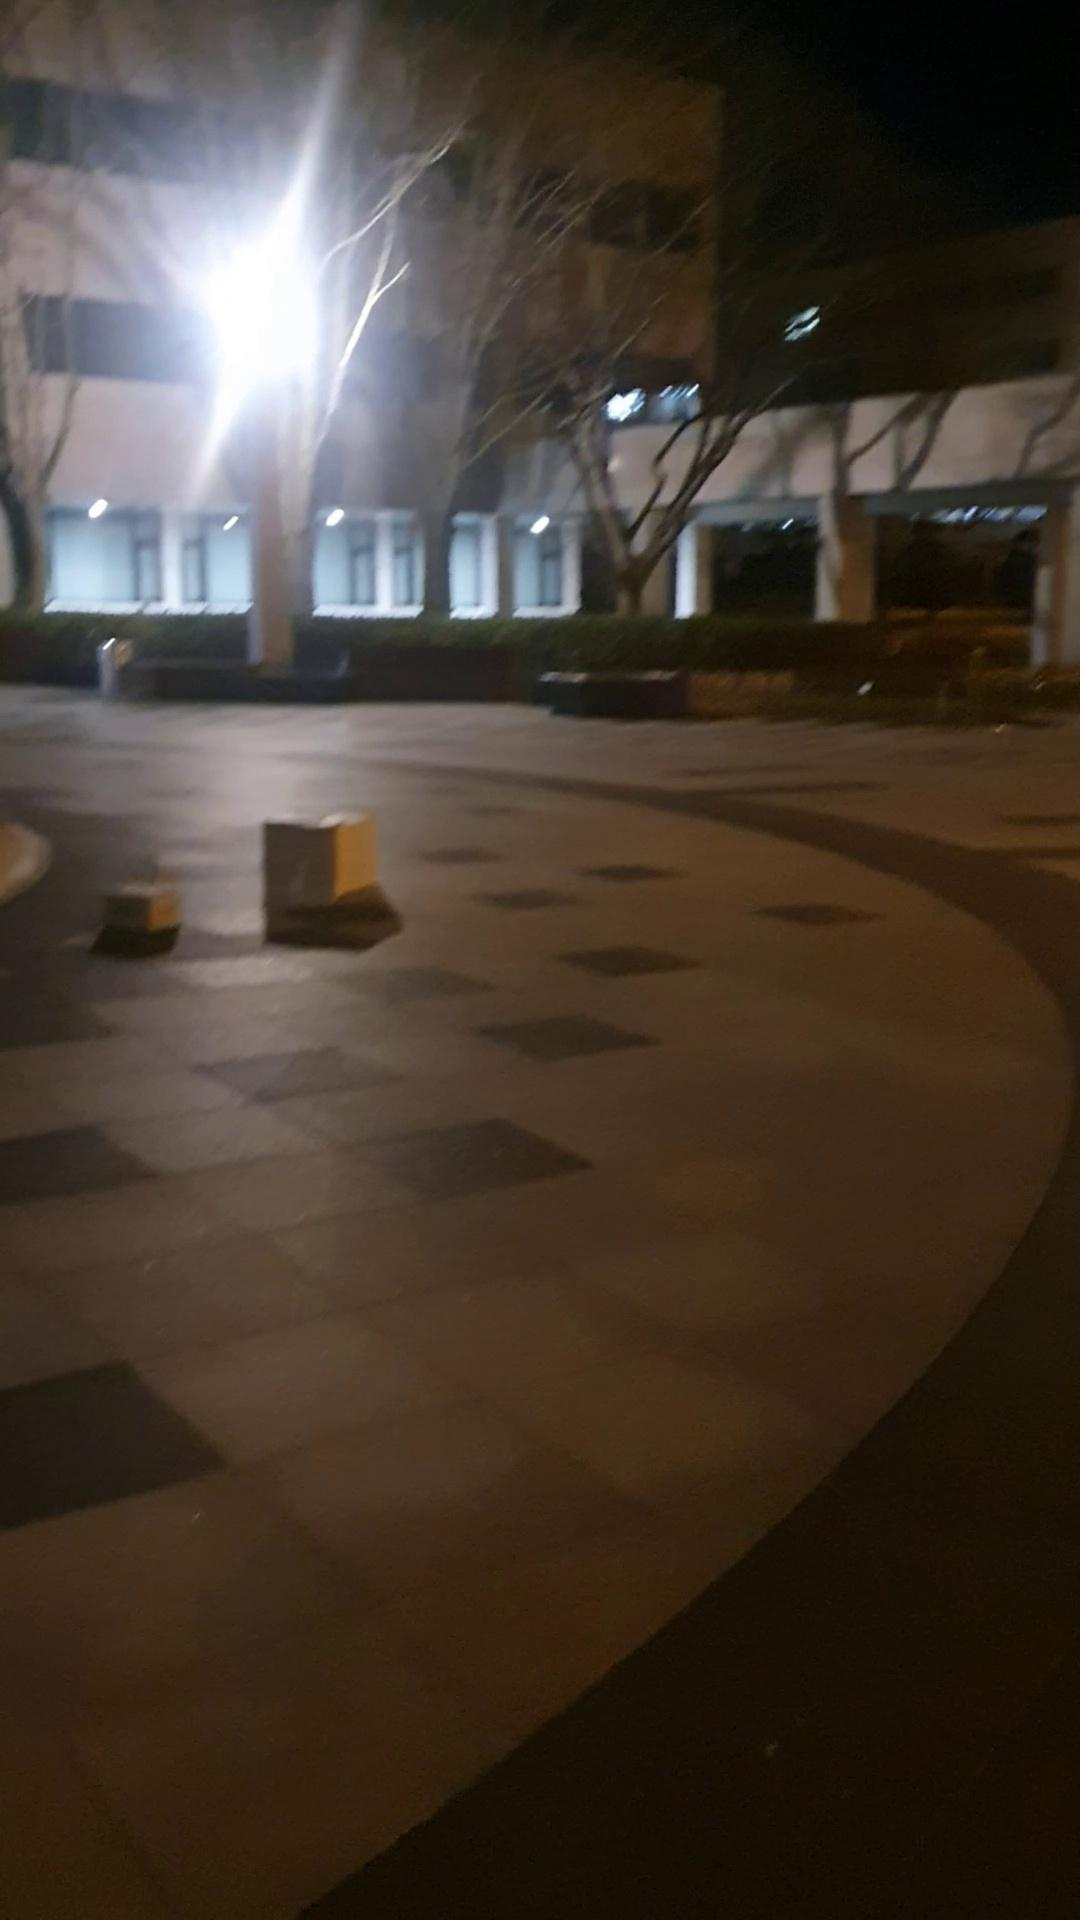Box: (253, 800, 382, 920), (103, 870, 185, 938)
